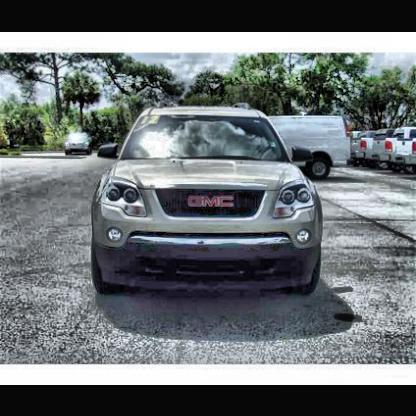GMC Acadia SUV 2012: (88, 100, 326, 301)
